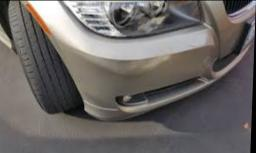Bumper: (64, 42, 203, 86)
Light: (62, 0, 203, 32)
